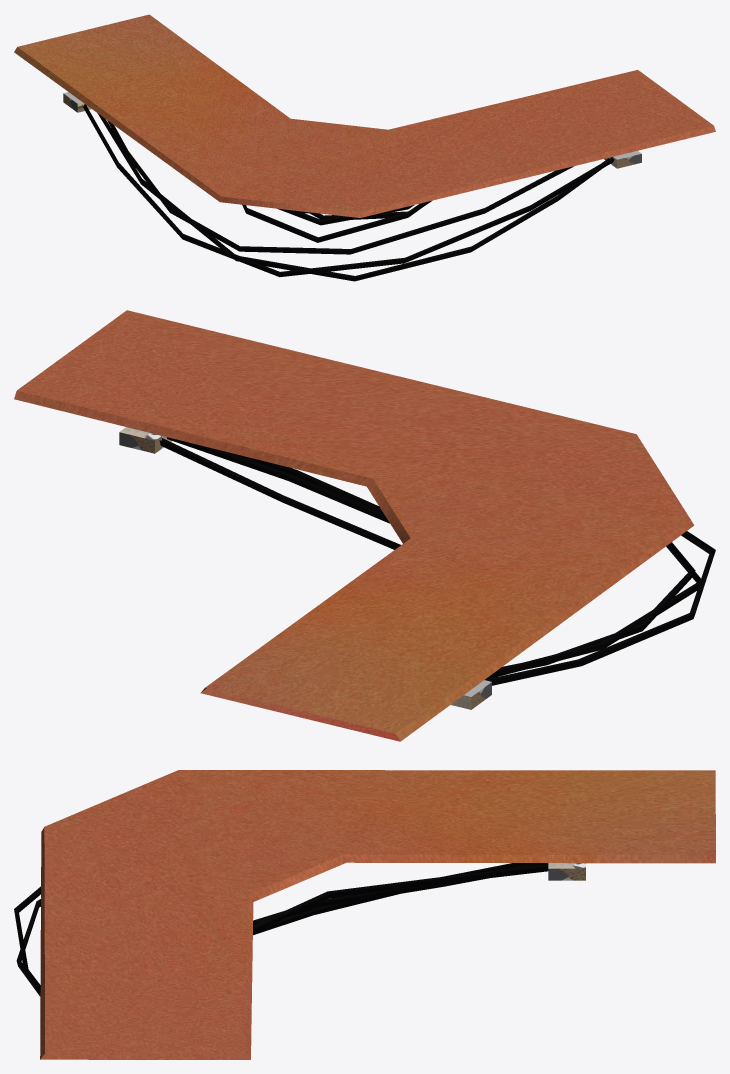
Rendered from pm-meme-factory-bridge-corner.glb.
3 renders of one model, top to bottom at view 1: azimuth 30°, elevation 25°; view 2: azimuth 150°, elevation 25°; view 3: azimuth 270°, elevation 25°, orthographic. The views are drawn at different scales.
Parts seen in each view (by area): view 1: MemeFactory_BridgeCorner_Art; view 2: MemeFactory_BridgeCorner_Art; view 3: MemeFactory_BridgeCorner_Art.
Part boxes in pixels (bbox=[...]): MemeFactory_BridgeCorner_Art: bbox=[14, 14, 715, 281]; MemeFactory_BridgeCorner_Art: bbox=[14, 310, 715, 741]; MemeFactory_BridgeCorner_Art: bbox=[14, 770, 715, 1059].
Bounding box in the file's own units: 6.94 × 1.18 × 6.92.
Materials: 3 (3 with a texture image).
